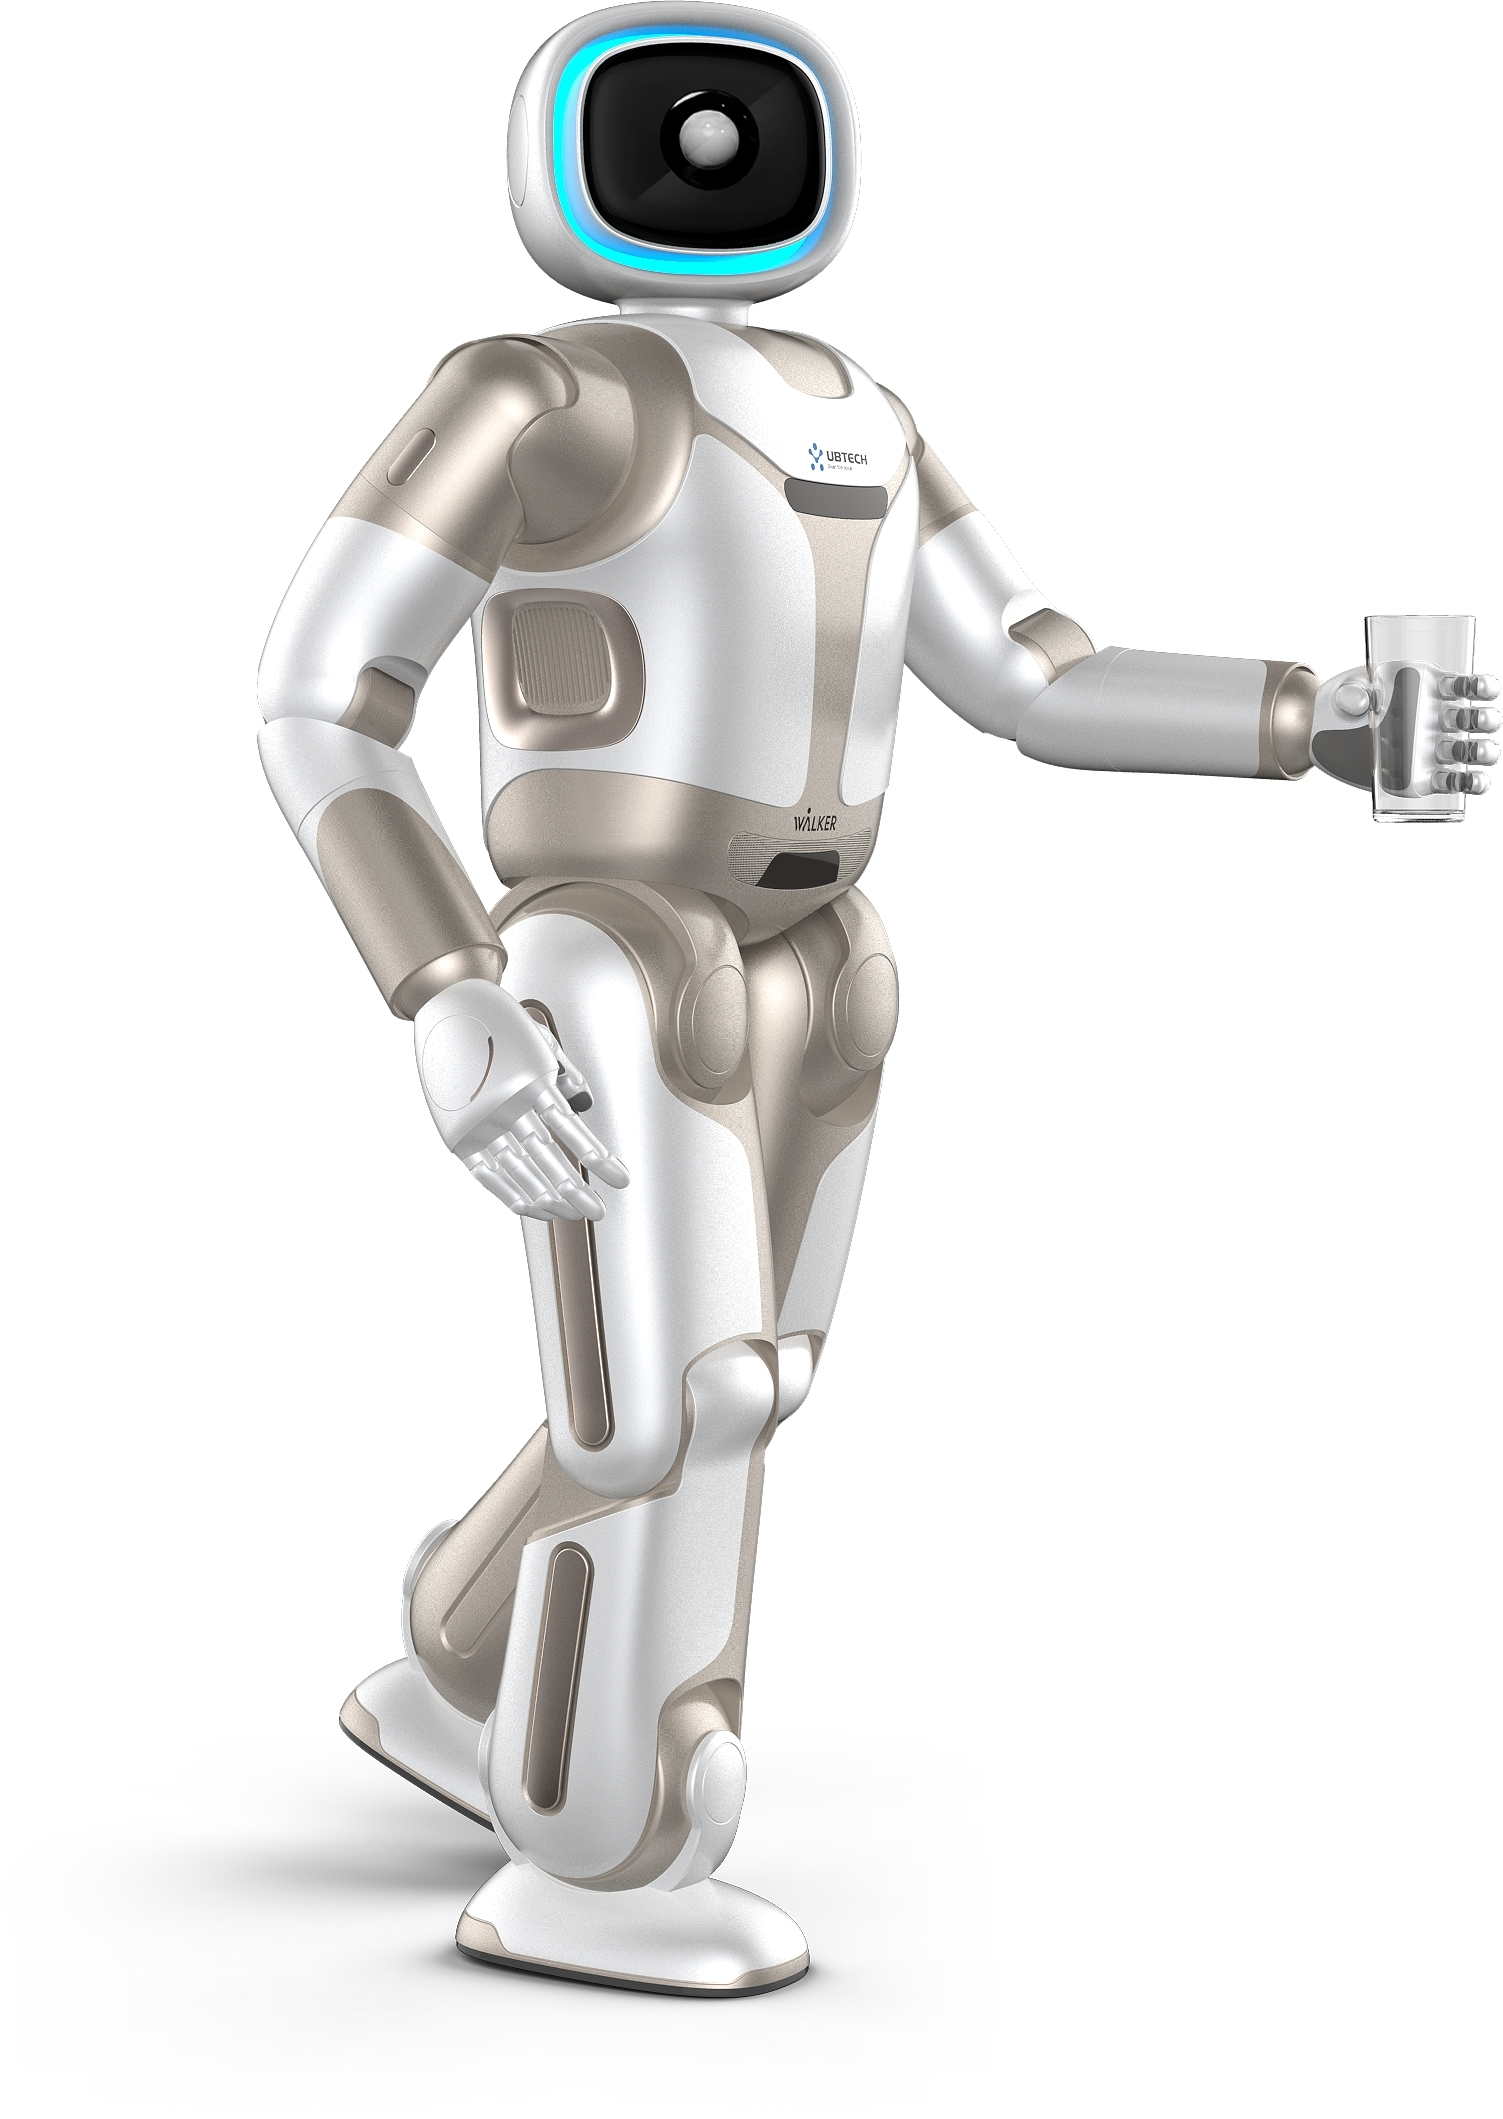person-like: (239, 10, 1503, 2024)
